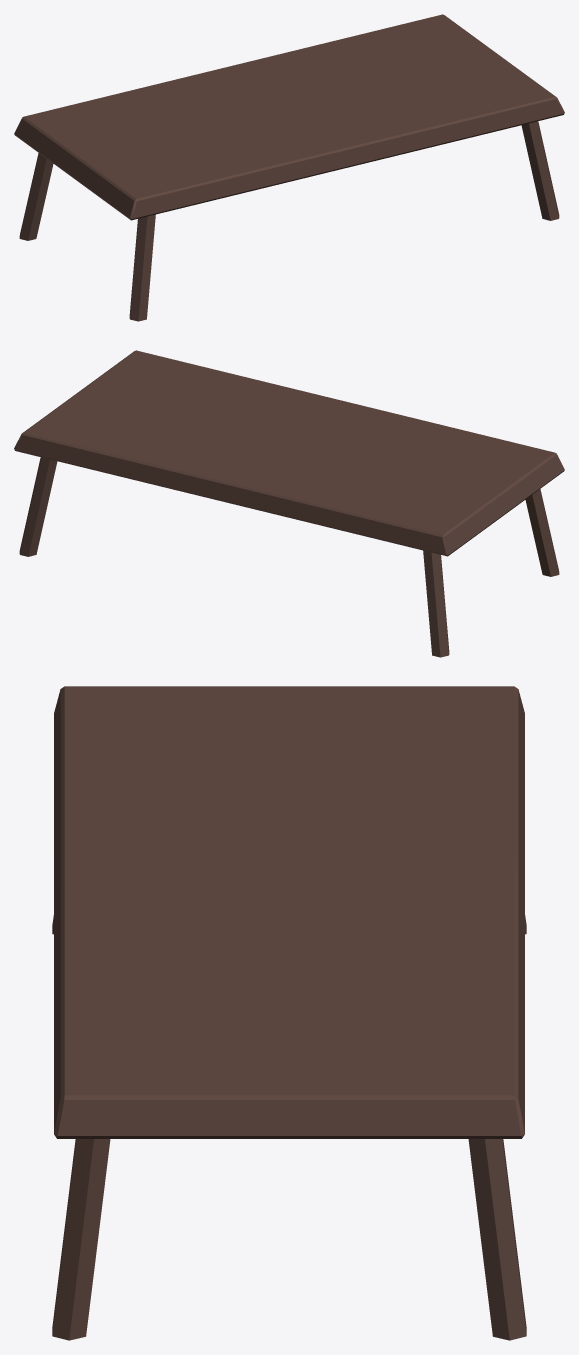
The model's file is Table.fbx.
3 views of the same model, one above another, from view 1: azimuth 30°, elevation 25°; view 2: azimuth 150°, elevation 25°; view 3: azimuth 270°, elevation 25° (orthographic). The views are drawn at different scales.
Visible parts, largest first — view 1: Table; view 2: Table; view 3: Table.
Boxes of the visible parts, x1=… form: Table: x1=14, y1=14, x2=564, y2=321; Table: x1=14, y1=350, x2=564, y2=657; Table: x1=52, y1=686, x2=526, y2=1340.
Size of the model in its own units: 4.87 by 1.28 by 2.3.
Materials: 1 (1 with a texture image).
